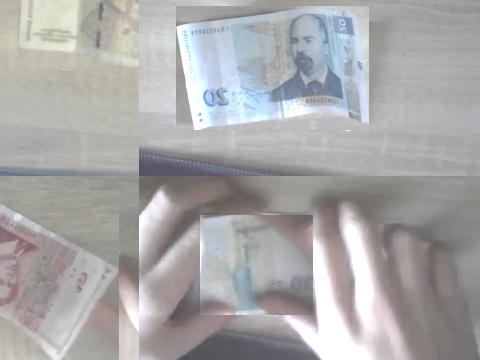20leva: (176, 6, 369, 130), (200, 215, 313, 315)
5leva: (0, 200, 119, 360)
